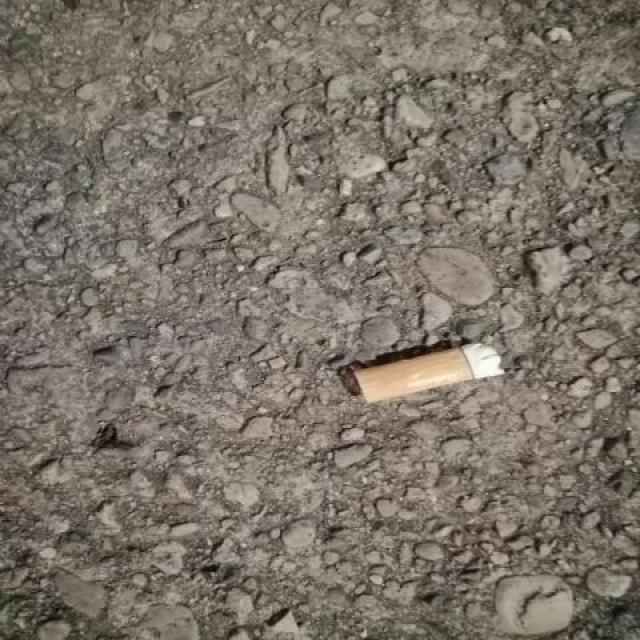non-organic waste: (344, 330, 512, 410)
